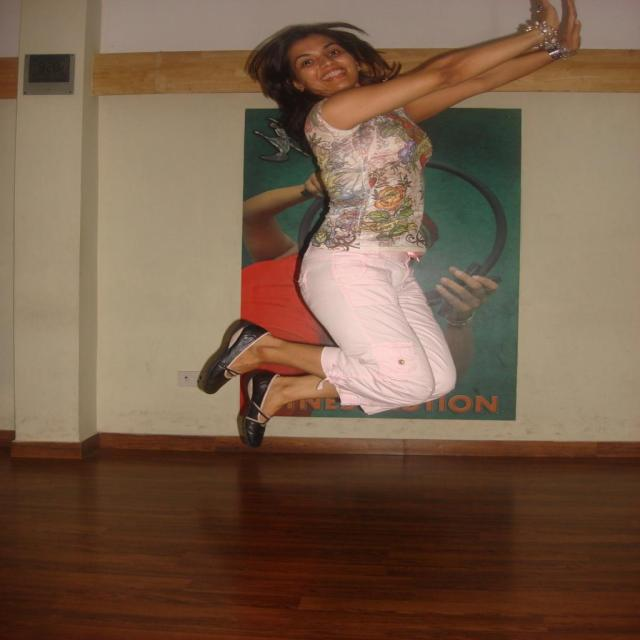Face: (266, 28, 369, 102)
